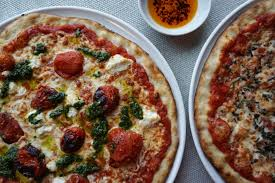pizza: (3, 14, 180, 183), (193, 2, 275, 183)
